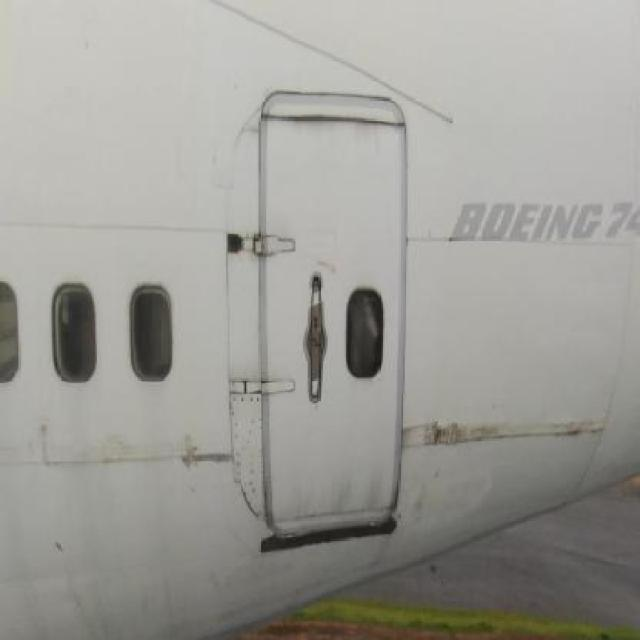Rust: (424, 409, 519, 462), (317, 469, 395, 522), (407, 474, 450, 548), (558, 410, 610, 465)
Scartch: (179, 432, 236, 477)
